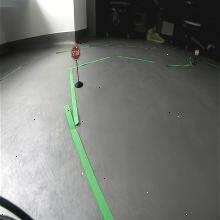stop: (70, 44, 82, 61)
